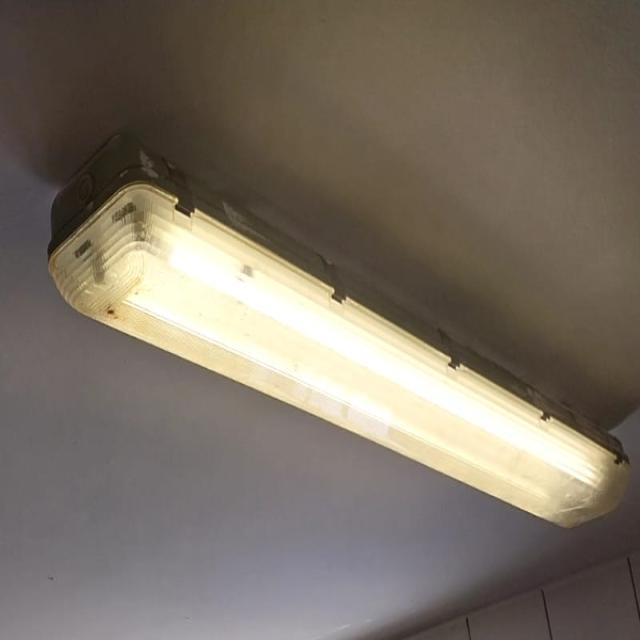fluorescent tube: (24, 114, 639, 586)
